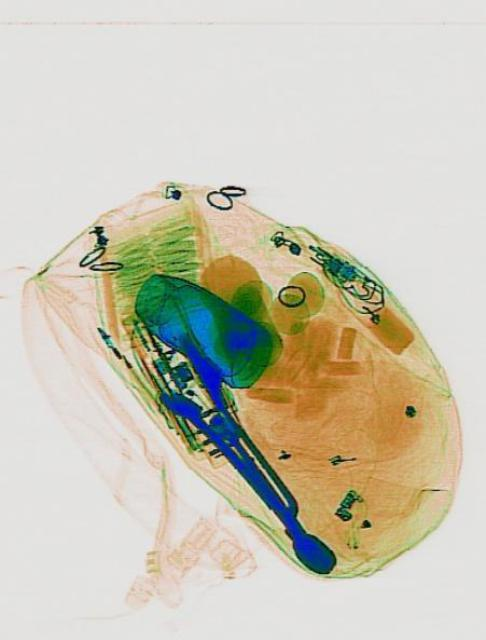Wrench: (156, 371, 338, 583)
